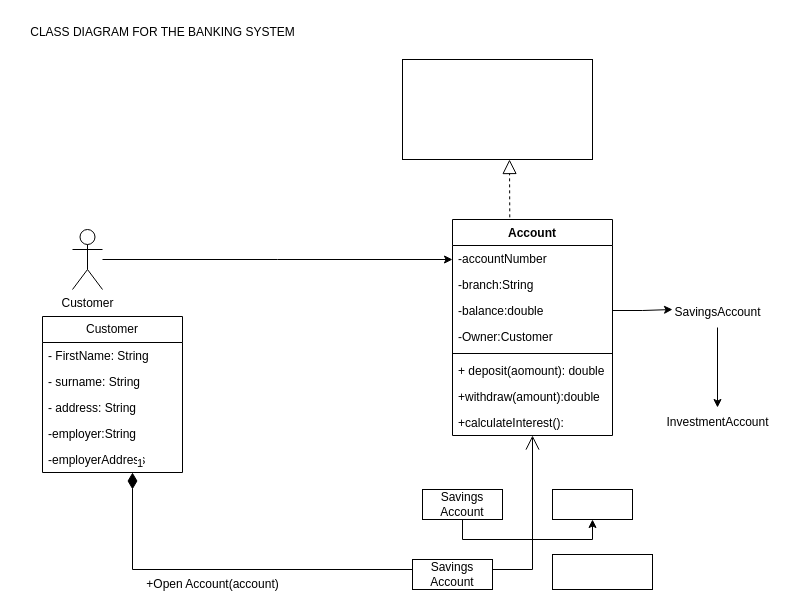
The diagram is 799 pixels wide and 616 high, and some of its shapes have lost their labels. The box of each missing label's shape, as (x1, y1, x2, y2) in pixels:
<<Interface>> Interface InterestBearing +CalculateInterest(): (402, 58, 592, 160)
ChequeAccount: (552, 554, 652, 590)
Investment Account: (552, 488, 632, 520)
